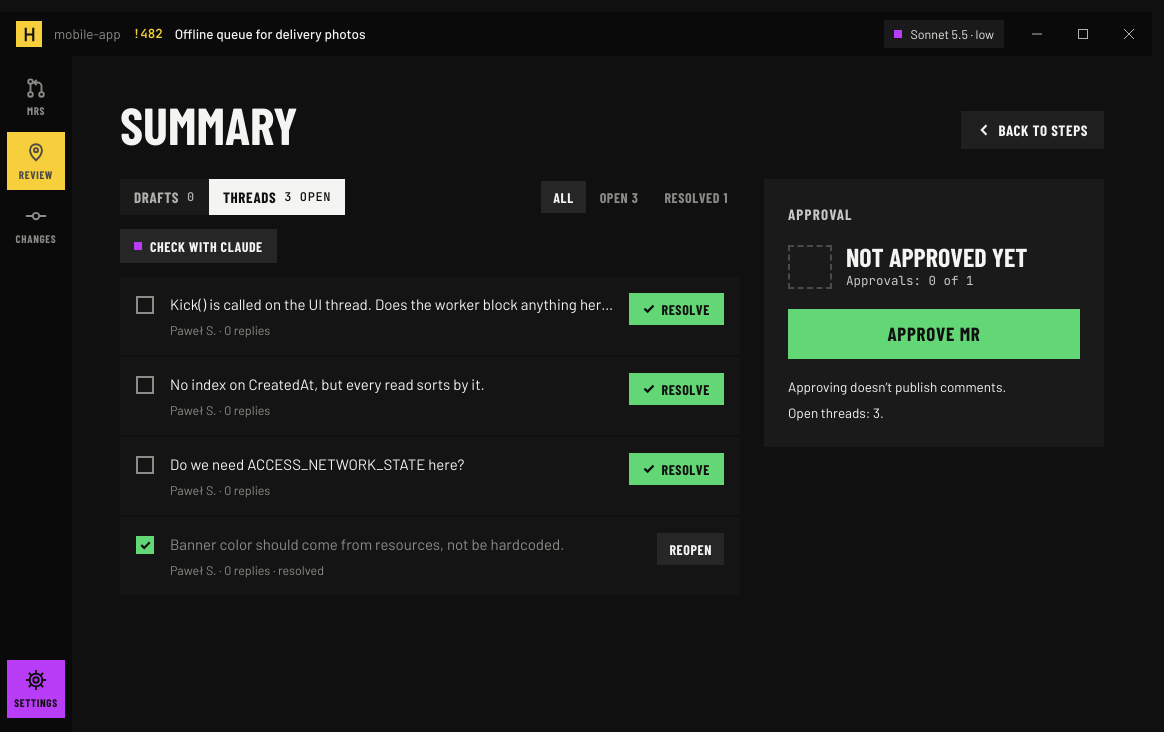
Test: S-05 Threads tab: Check with Claude (F-13.3) › F-13.3 clicking runs the check for the session once; the button waits and "Claude is checking the threads…" stands while it runs
Expected: the element named "Thread filter" is shown, x1=541 y1=181 x2=740 y2=213
Click the button "Check with Claude": (198, 246) x1=120 y1=229 x2=277 y2=263
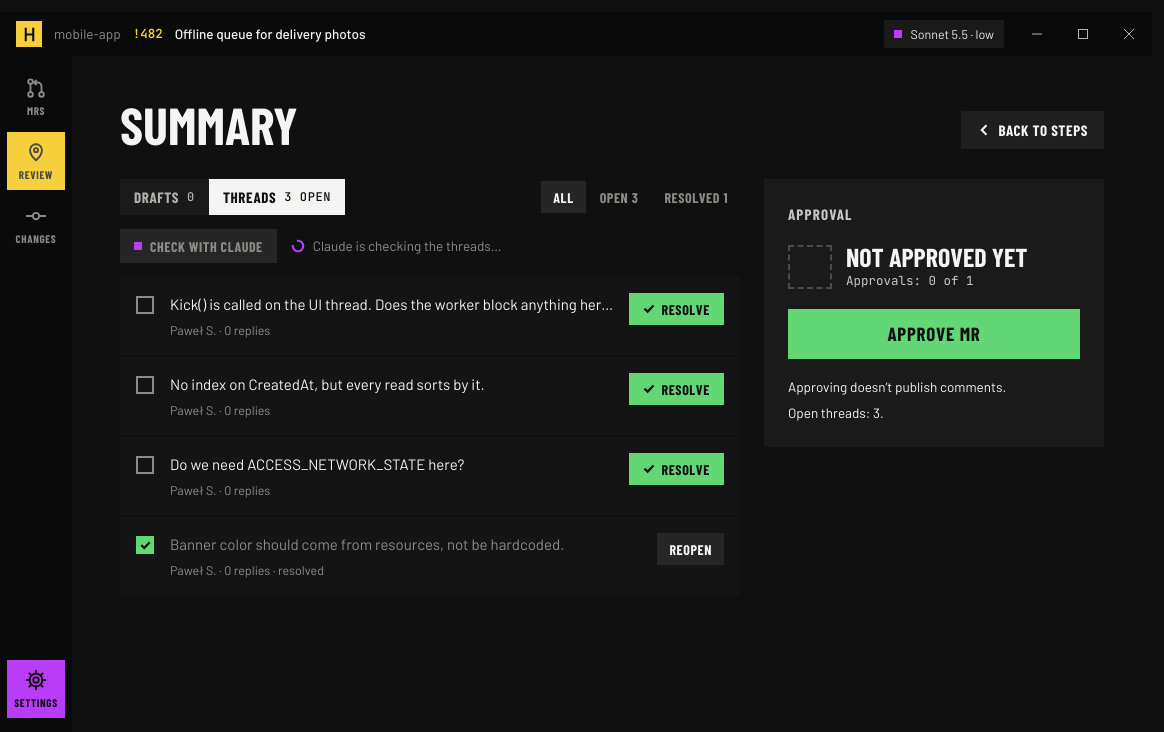
Expected: the text "Claude is checking the threads…" is shown, x1=291 y1=236 x2=502 y2=257
Expected: the button "Check with Claude" is disabled
A second click while it runs does nothing.
Click the button "Check with Claude": (198, 246) x1=120 y1=229 x2=277 y2=263
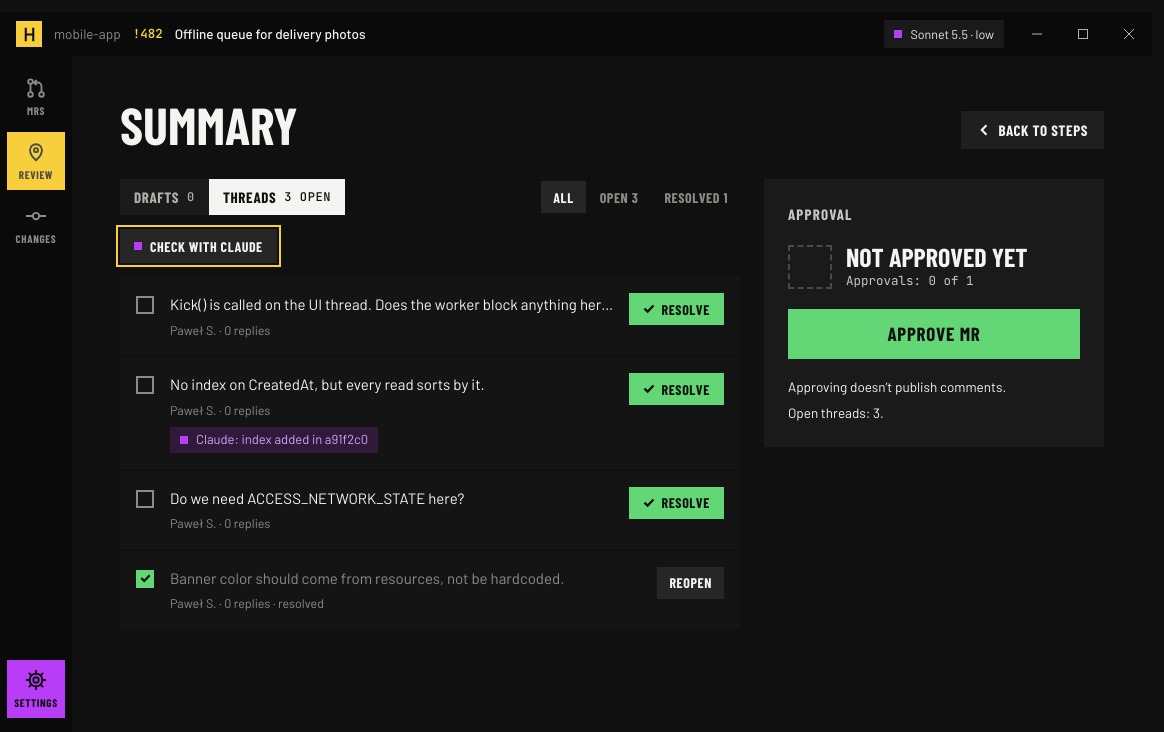
Expected: the text "Claude: index added in a91f2c0" is shown, x1=170 y1=427 x2=378 y2=453
Expected: the text "Claude is checking the threads…" is gone
Expected: the button "Check with Claude" is enabled, x1=120 y1=229 x2=277 y2=263
